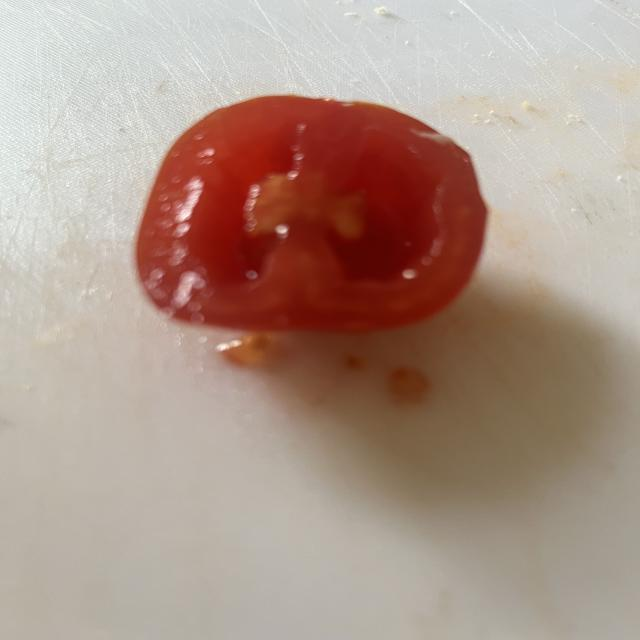sliced_tomato: (137, 96, 486, 331)
